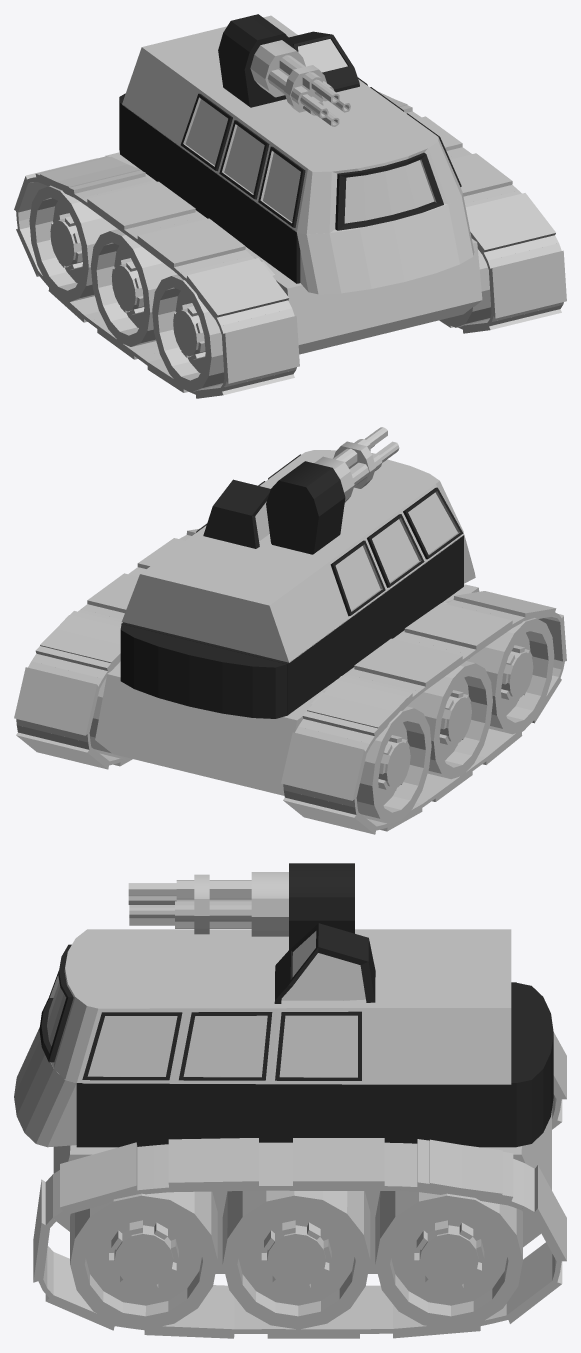
The model's file is TankTextured.fbx.
3 views of the same model, one above another, from view 1: azimuth 30°, elevation 25°; view 2: azimuth 150°, elevation 25°; view 3: azimuth 270°, elevation 25° (orthographic). The views are drawn at different scales.
Visible parts, largest first — view 1: Cube.015, Cube, Cube.003, Cylinder.010, Cube.014, Cube.004, Cylinder.006, Cylinder.007, Cylinder.005, Cylinder.012, Cylinder.002, Cube.002 (+1 smaller); view 2: Cube.015, Cube, Cube.014, Cube.003, Cylinder.011, Cube.004, Cylinder.006, Cylinder.005, Cylinder.007, Cylinder.002, Cube.002, Cylinder.012 (+1 smaller); view 3: Cube.015, Cube.003, Cube.004, Cylinder.009, Cylinder.013, Cylinder.008, Cylinder.012, Cube.002, Cylinder.011, Cylinder.010, Cylinder.002, Cube.014 (+1 smaller).
Part boxes in pixels (x1,y1,x2,y2): Cube.015: (122,15,462,234); Cube: (14,156,299,398); Cube.003: (378,91,566,333); Cylinder.010: (297,192,474,294); Cube.014: (106,152,482,354); Cube.004: (120,102,300,283); Cylinder.006: (90,216,202,346); Cylinder.007: (29,185,117,302); Cylinder.005: (152,257,274,391); Cylinder.012: (250,40,350,126); Cylinder.002: (218,14,294,107); Cube.002: (289,31,359,92); Cube.015: (121,450,464,662); Cube: (281,591,566,834); Cube.014: (95,584,479,795); Cube.003: (14,528,199,769); Cylinder.011: (120,624,286,718); Cube.004: (121,535,463,715); Cylinder.006: (407,661,492,779); Cylinder.005: (444,599,554,734); Cylinder.007: (309,691,431,823); Cylinder.002: (266,461,345,554); Cube.002: (203,479,270,548); Cylinder.012: (314,427,399,502); Cube.015: (39,929,511,1084); Cube.003: (33,1138,566,1338); Cube.004: (76,982,516,1147); Cylinder.009: (222,1190,370,1329); Cylinder.013: (375,1191,522,1329); Cylinder.008: (70,1191,217,1329); Cylinder.012: (128,872,288,936); Cube.002: (274,923,375,1003); Cylinder.011: (516,983,553,1146); Cylinder.010: (14,1028,76,1147); Cylinder.002: (289,863,354,949); Cube.014: (53,1111,551,1273).
Bounding box in the file's own units: 1360 × 1062 × 1522.
